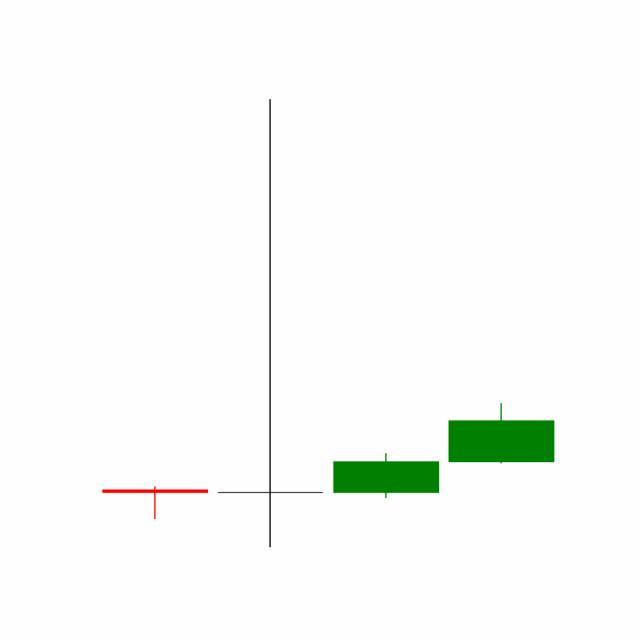Marubozu: (329, 453, 445, 500)
